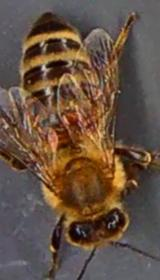varroa_mite: (58, 104, 92, 132)
